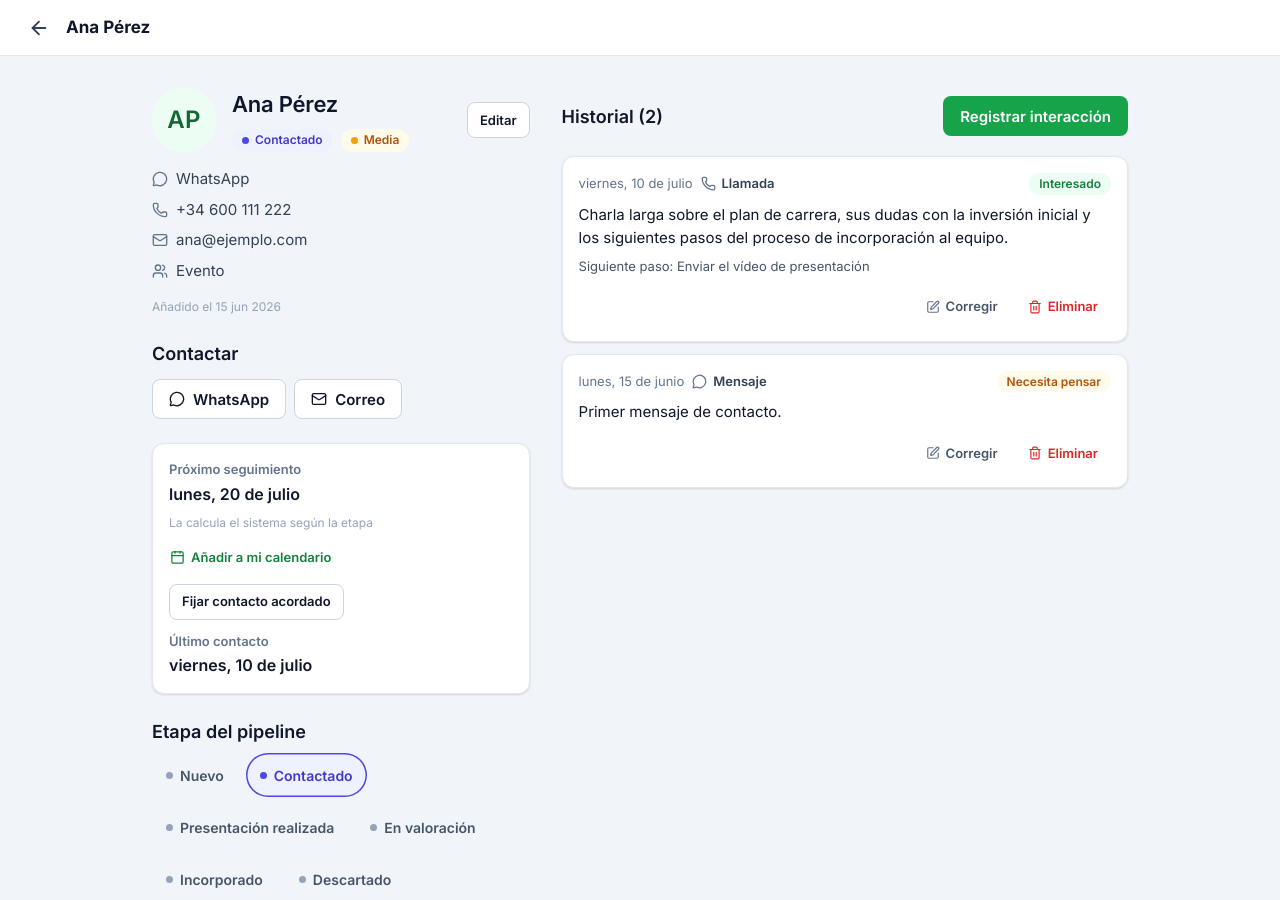
edición de datos (JOS-18, bocado 3) › error de actualizar: mantiene el modo edición con lo tecleado y sin toast (P7)
Click the button "Editar".
click(498, 120)  # box [467,102,530,138]
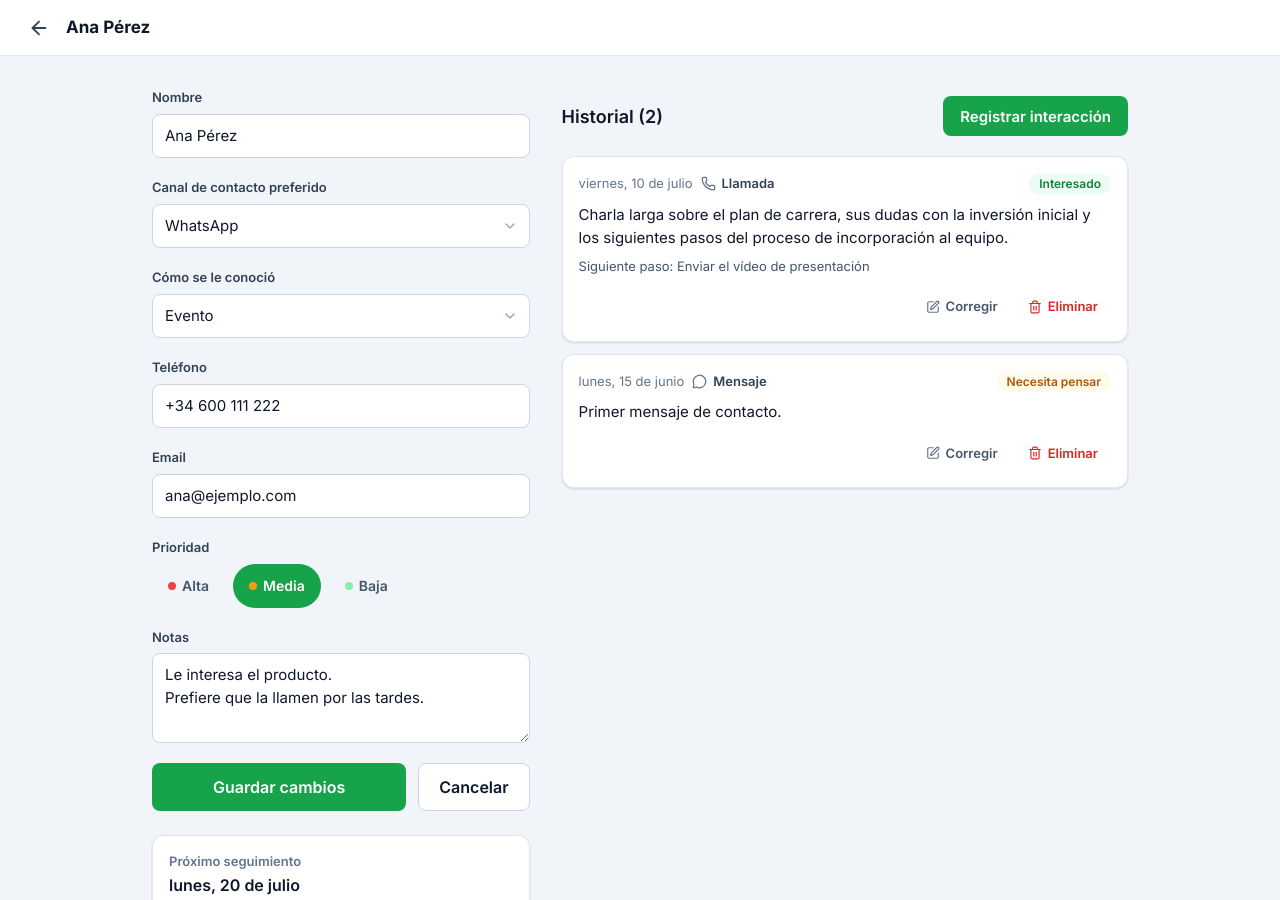
Replace the text in the field labelled "Nombre" with "Ana López" at [341, 136], box [152,114,530,158]
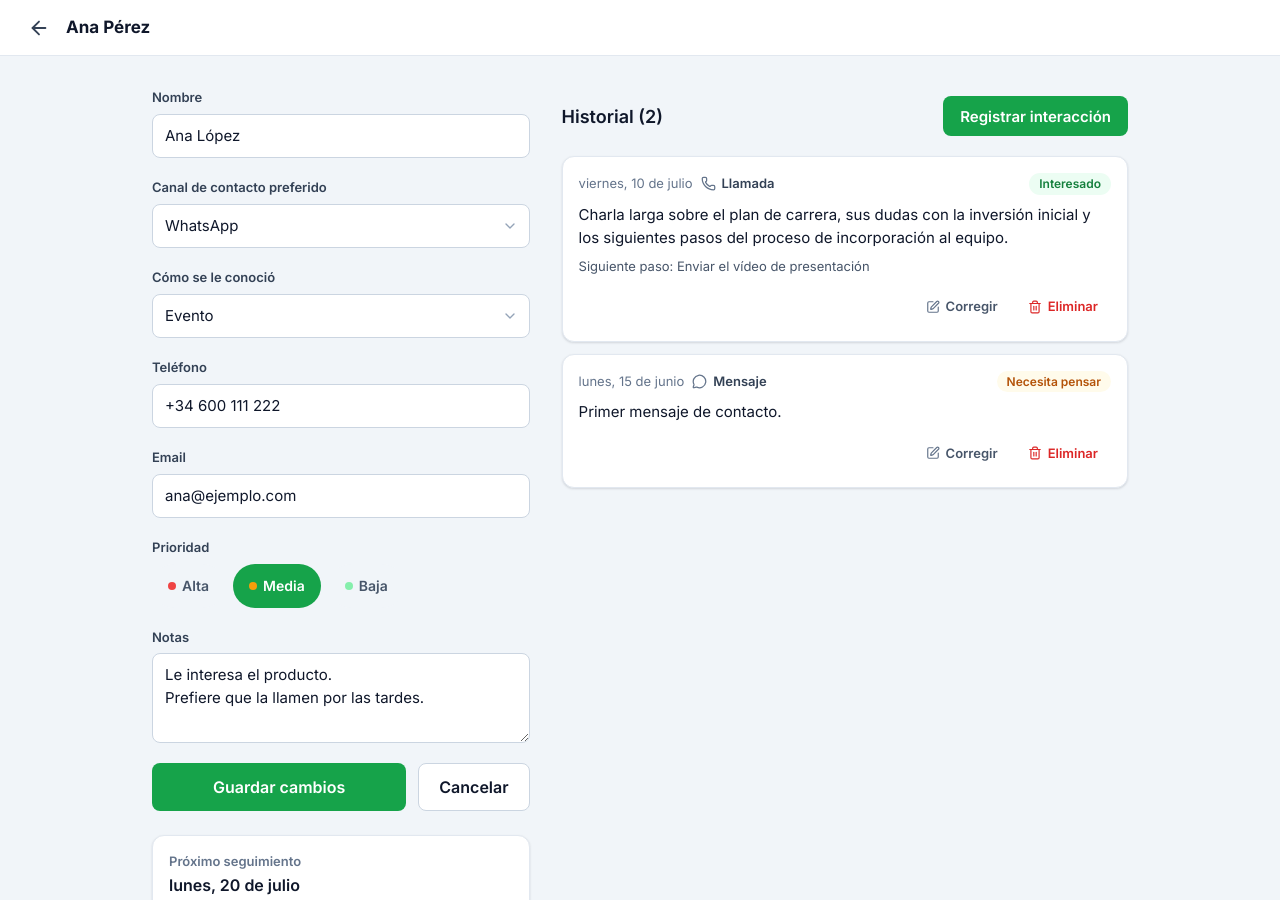
Click the button "Guardar cambios".
click(279, 786)  # box [152,762,406,810]
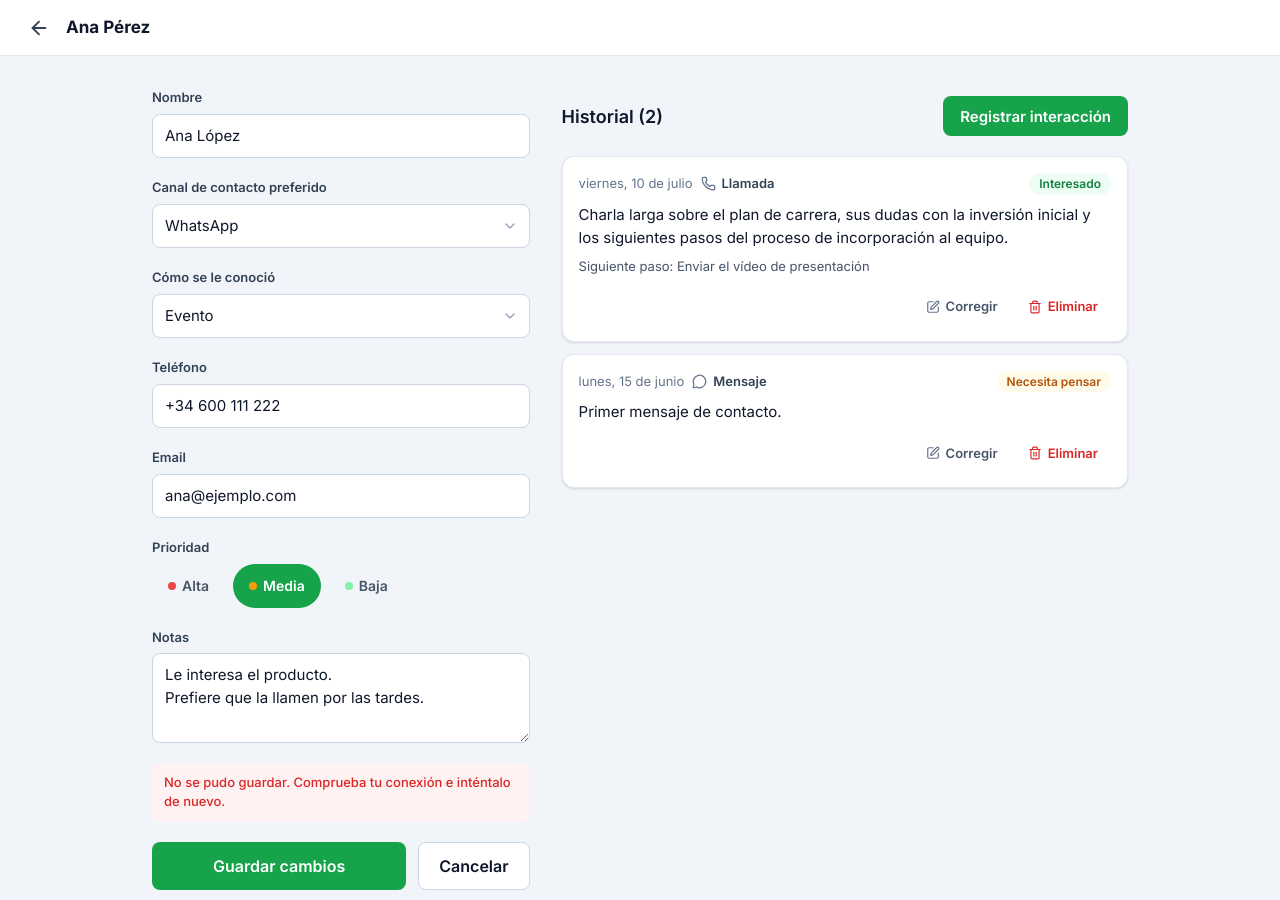
Check: the form named "Editar datos del prospecto" is shown, box [152,88,530,890]
Check: the message reads "No se pudo guardar. Comprueba tu conexión e inténtalo de nuevo.", box [164,774,511,809]
